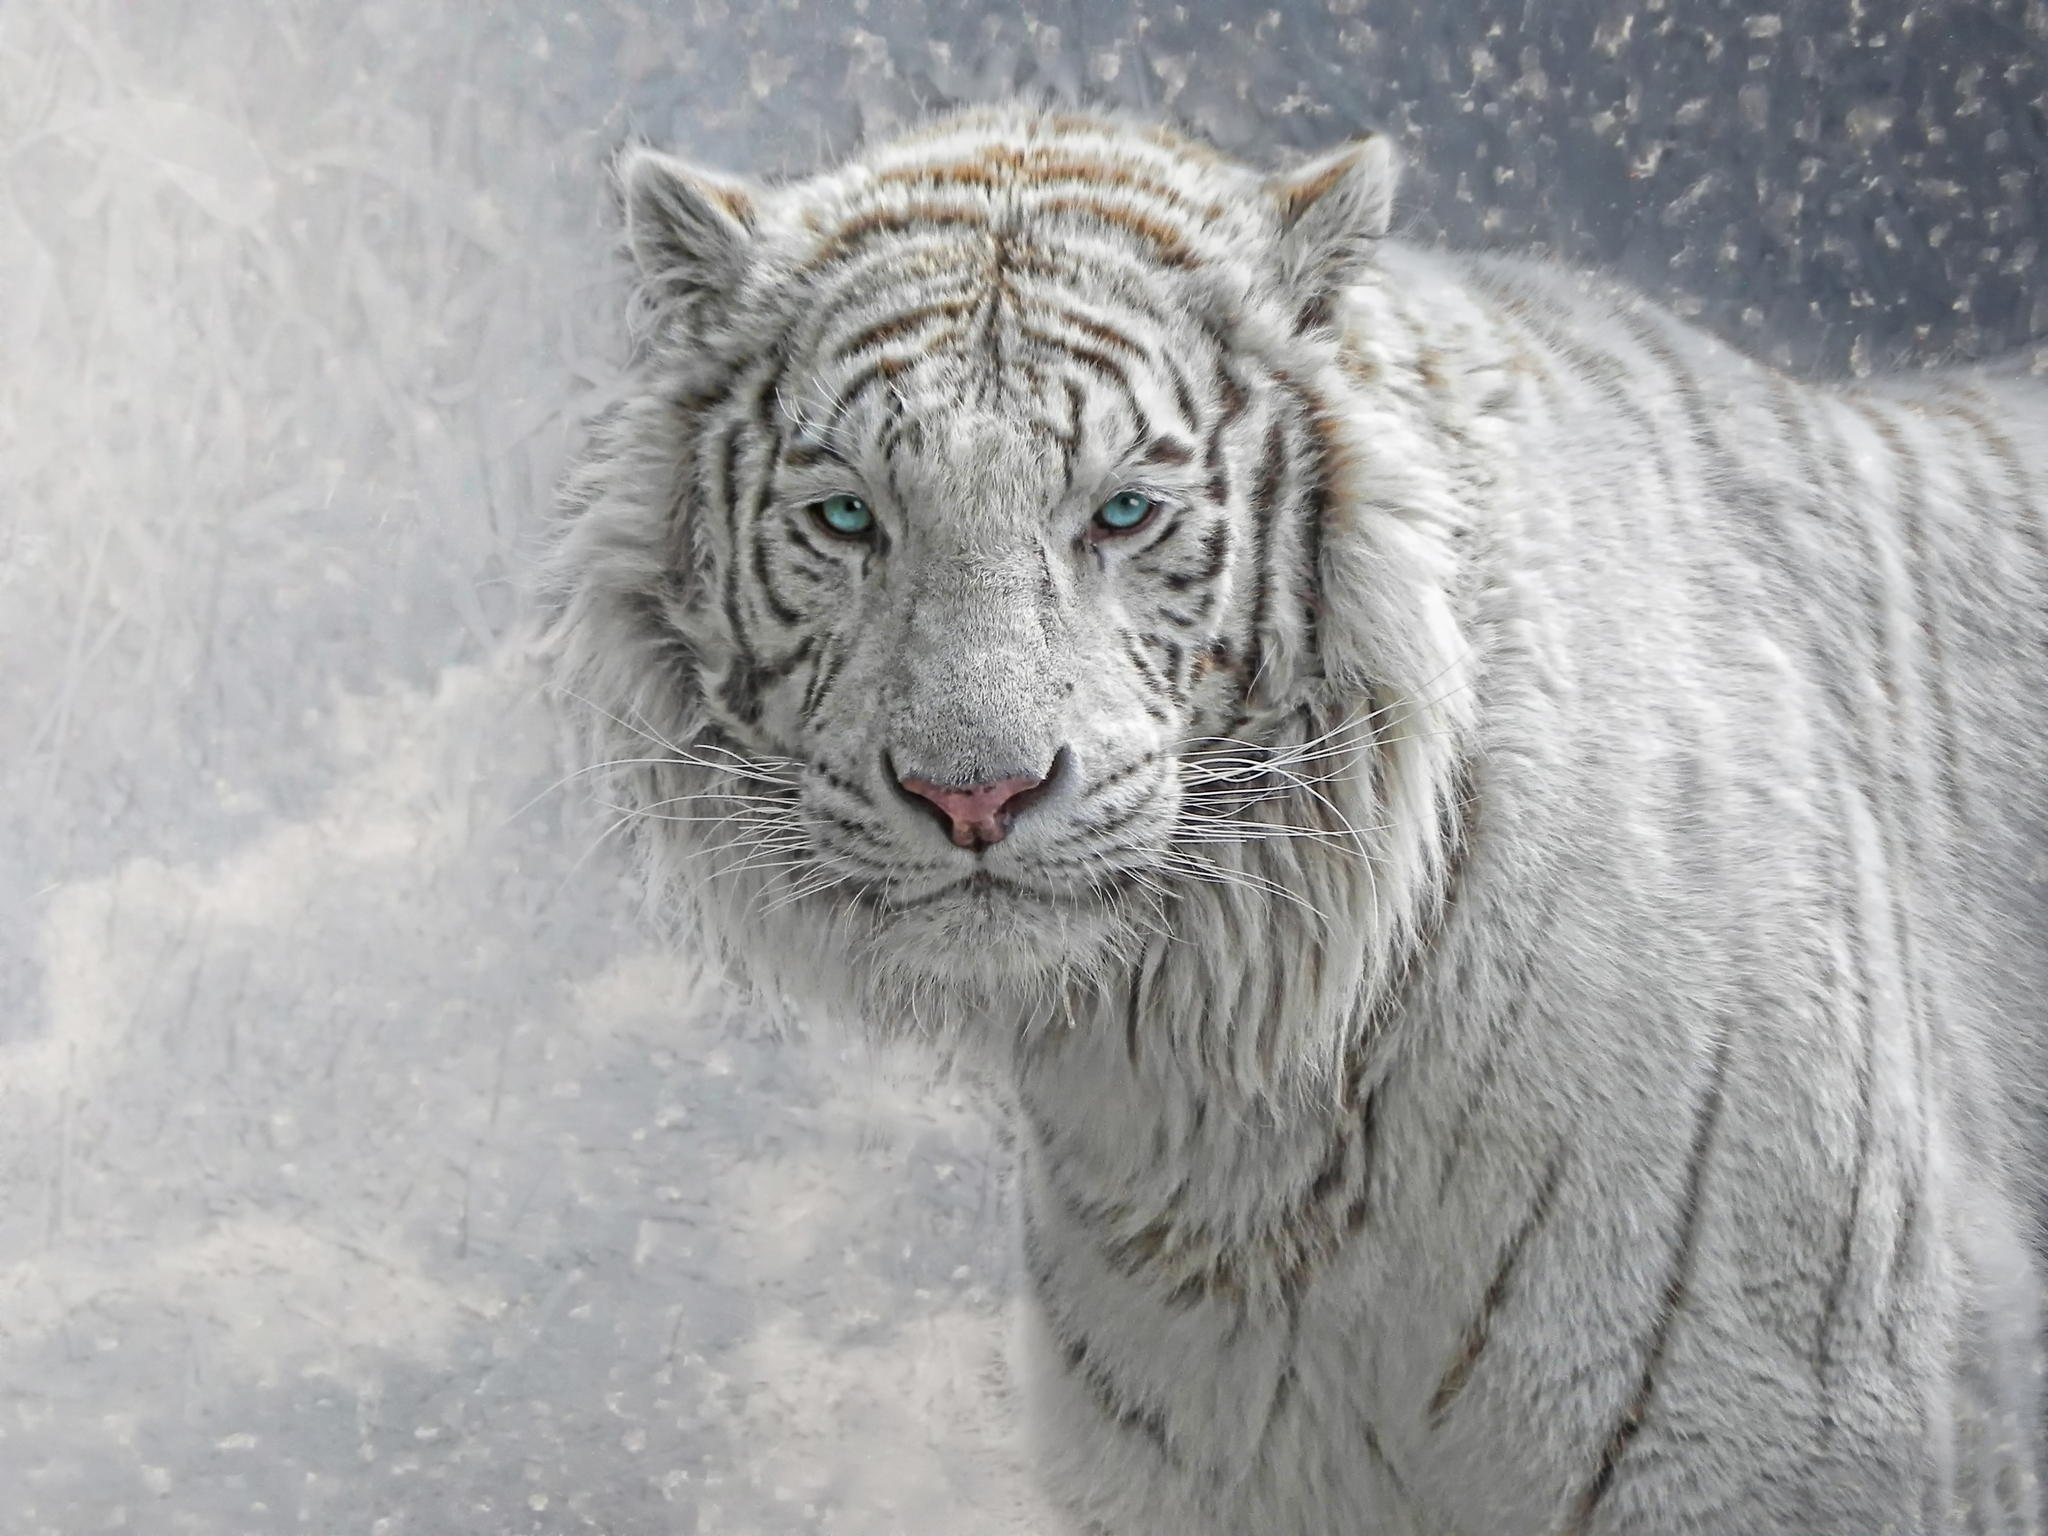tiger: (598, 116, 2037, 1536)
